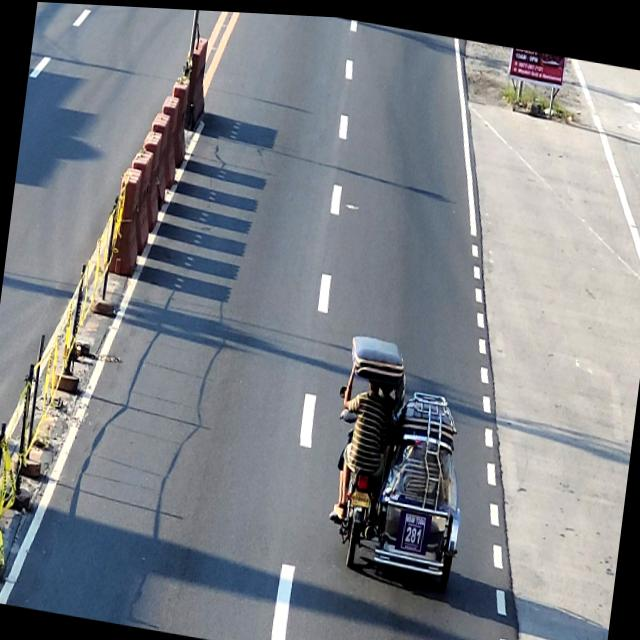License-Plate: (349, 487, 370, 504)
Tricycle: (318, 327, 482, 586)
